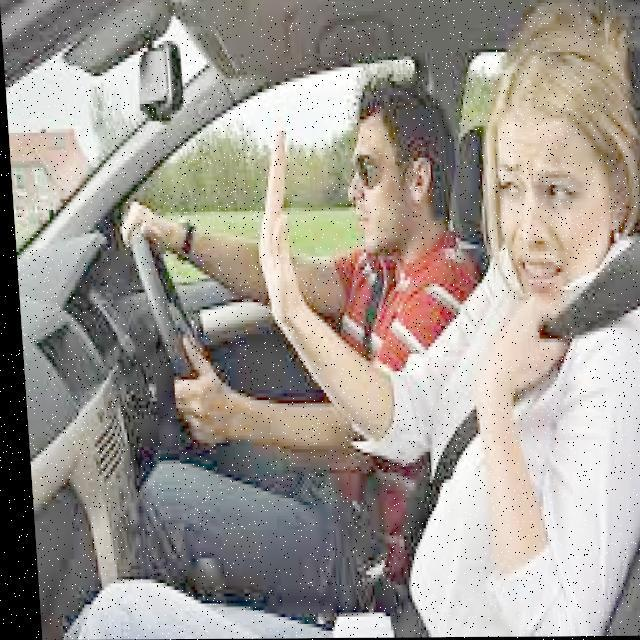seatbelt: (379, 217, 640, 638)
